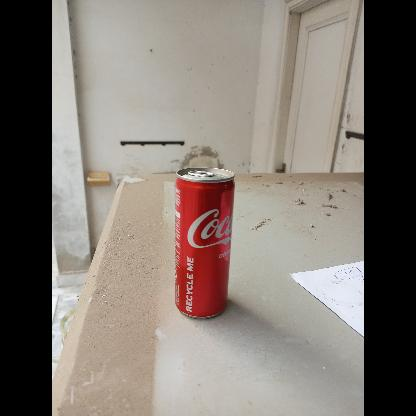Tin_Can: (172, 166, 234, 320)
